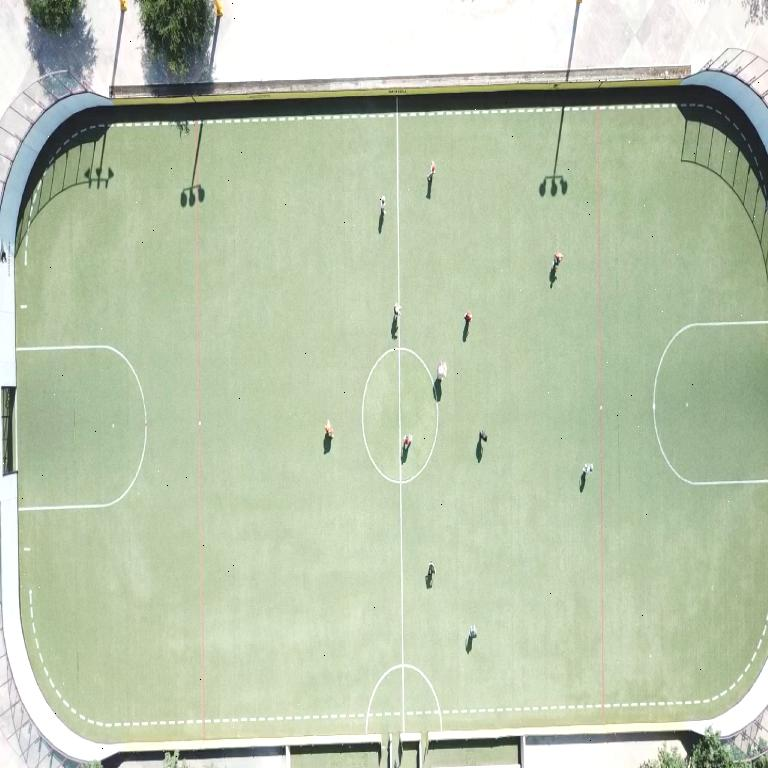AC: (16, 345, 146, 510), (652, 320, 767, 486)
B: (554, 267, 558, 274)
MC: (398, 455, 404, 731)
P: (462, 311, 471, 341), (551, 252, 562, 274), (425, 562, 434, 588), (437, 361, 447, 380), (324, 420, 334, 438), (426, 162, 434, 182), (582, 463, 592, 475), (403, 435, 411, 449), (393, 303, 400, 317), (478, 430, 486, 442), (469, 624, 476, 637), (380, 196, 384, 216)
